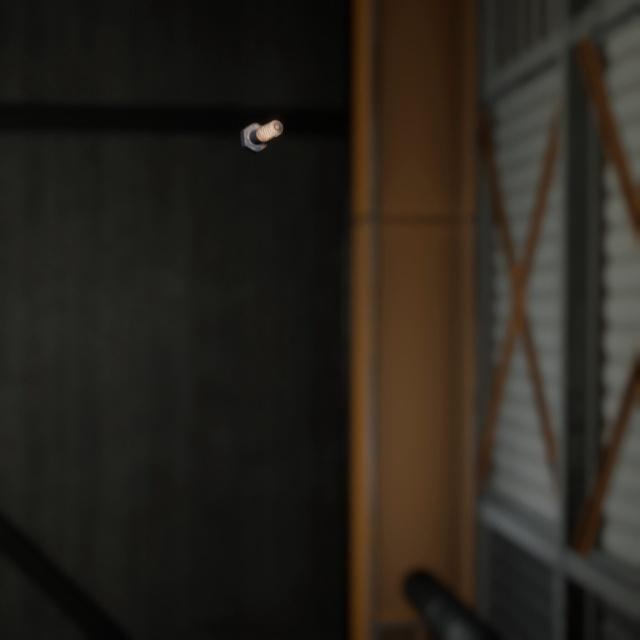bolt: (236, 102, 287, 144)
